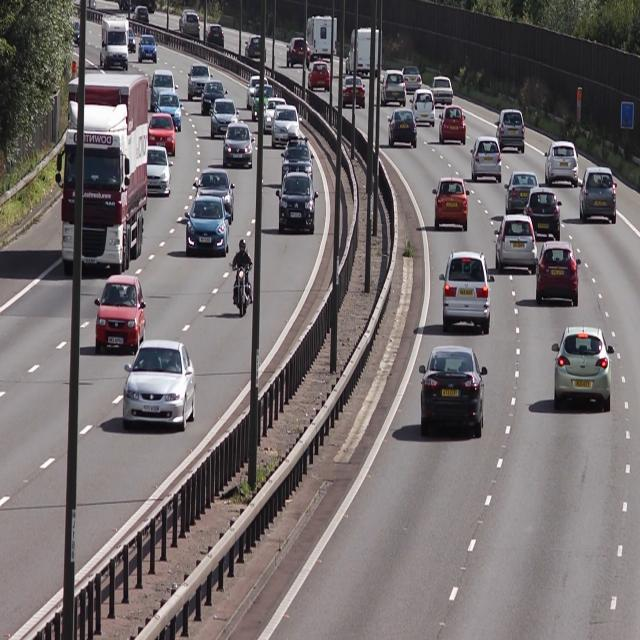Vehicle: (54, 74, 148, 273), (121, 337, 197, 439), (417, 348, 487, 438), (549, 327, 614, 410), (438, 251, 496, 337), (94, 270, 146, 356), (534, 238, 581, 309), (183, 192, 229, 260), (273, 171, 316, 236), (576, 168, 620, 226), (494, 216, 536, 276), (187, 165, 235, 213), (524, 186, 562, 242), (431, 176, 470, 230), (279, 128, 312, 188), (469, 133, 502, 187), (143, 142, 173, 199), (542, 139, 578, 186), (222, 119, 255, 170), (502, 169, 539, 214), (269, 101, 300, 151), (492, 108, 526, 152), (385, 107, 419, 150), (437, 103, 467, 148), (146, 114, 175, 157), (210, 97, 238, 138), (154, 92, 183, 131), (379, 67, 405, 110), (409, 88, 436, 127), (428, 73, 454, 113), (199, 79, 225, 114), (340, 74, 366, 108), (306, 60, 332, 93)
